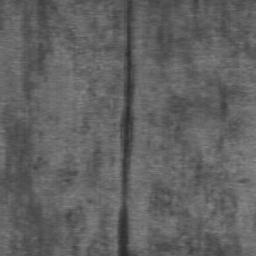Scratches: (117, 0, 134, 256)
